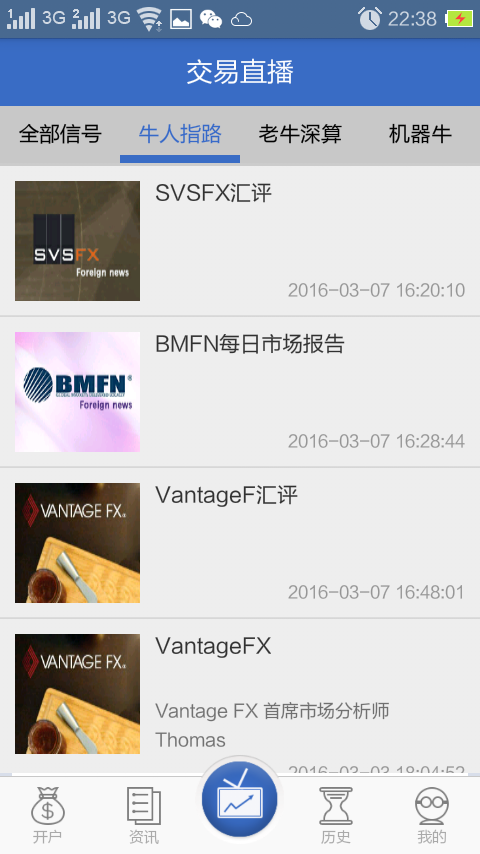imgview: (13, 476, 145, 606)
